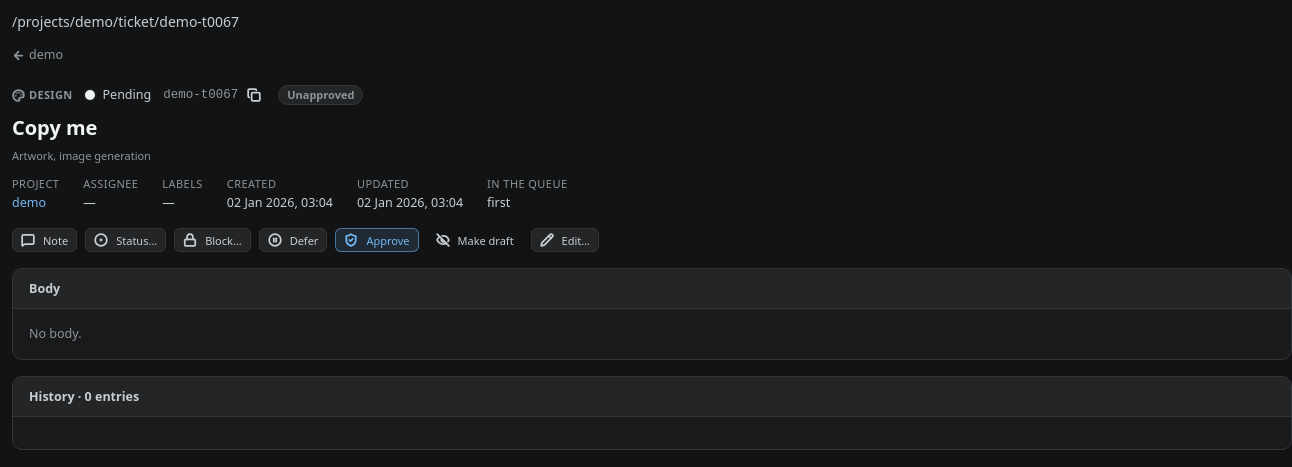
Test case: the id’s copy button › says it could not copy when the browser refuses every way
This screenshot has width=1292, height=467.
Check: the heading "Copy me" is shown, box top-left (12, 114), bottom-right (97, 141)
Click the button named "Copy demo-t0067": (254, 95) top-left (242, 83), bottom-right (266, 107)
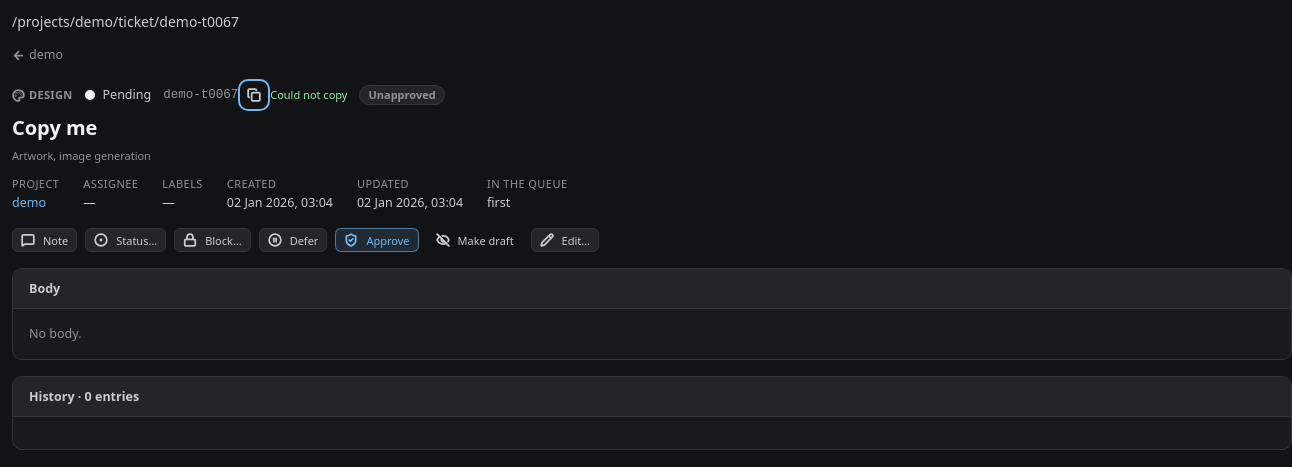
Check: the message reads "Could not copy", box top-left (270, 87), bottom-right (348, 102)
